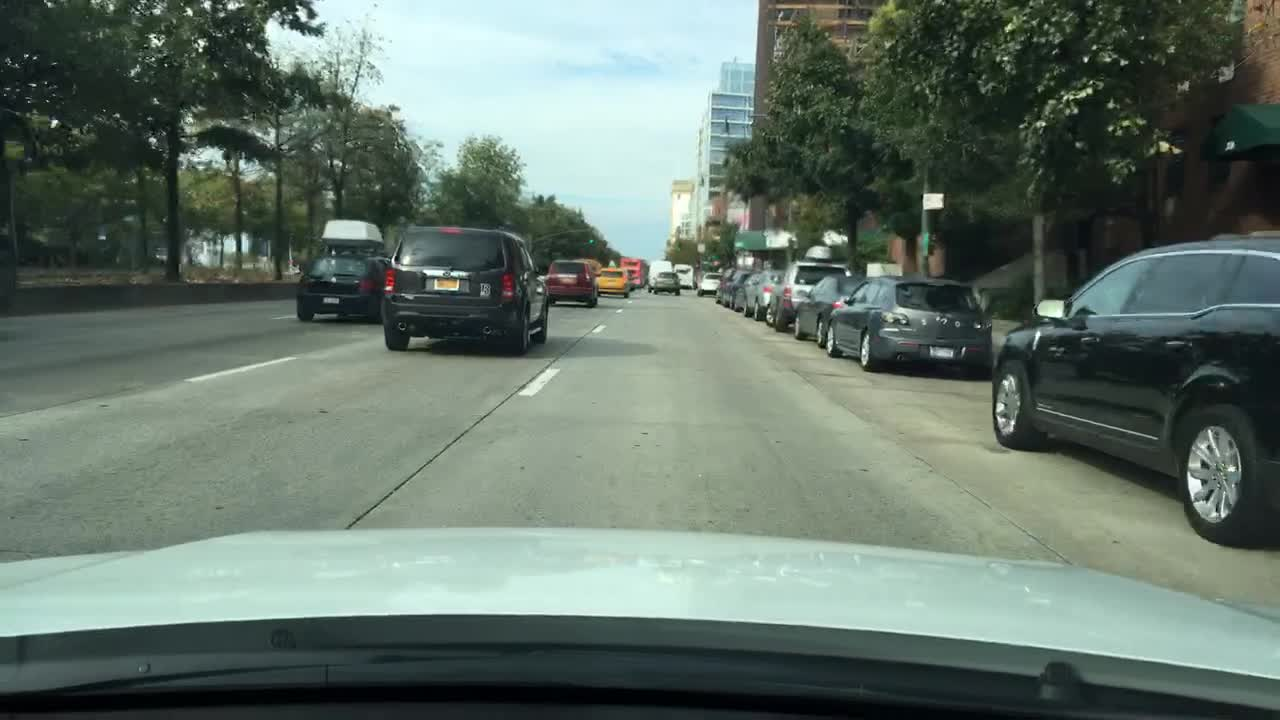bus: (617, 255, 645, 290)
car: (988, 228, 1278, 550), (380, 223, 551, 357), (821, 273, 992, 374), (293, 219, 393, 323), (763, 246, 851, 331), (791, 271, 865, 345), (539, 260, 599, 305), (740, 266, 776, 319), (596, 259, 630, 298), (724, 267, 751, 315), (713, 268, 739, 308), (647, 270, 682, 296), (573, 257, 600, 286), (671, 260, 693, 291), (646, 260, 674, 284), (696, 271, 721, 296)
traffic light: (587, 230, 595, 246), (676, 240, 684, 251)
traffic sign: (924, 192, 943, 209)
